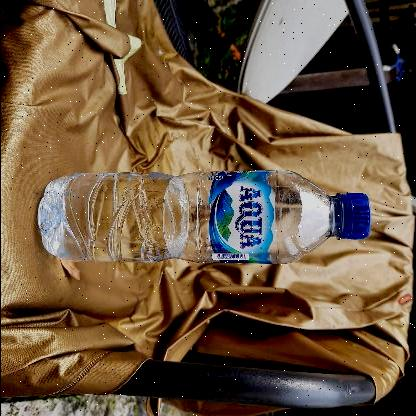Plastic Bottle: (35, 170, 372, 268)
